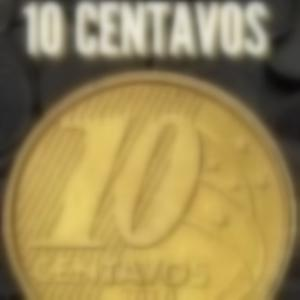10 cent: (1, 67, 297, 299)
